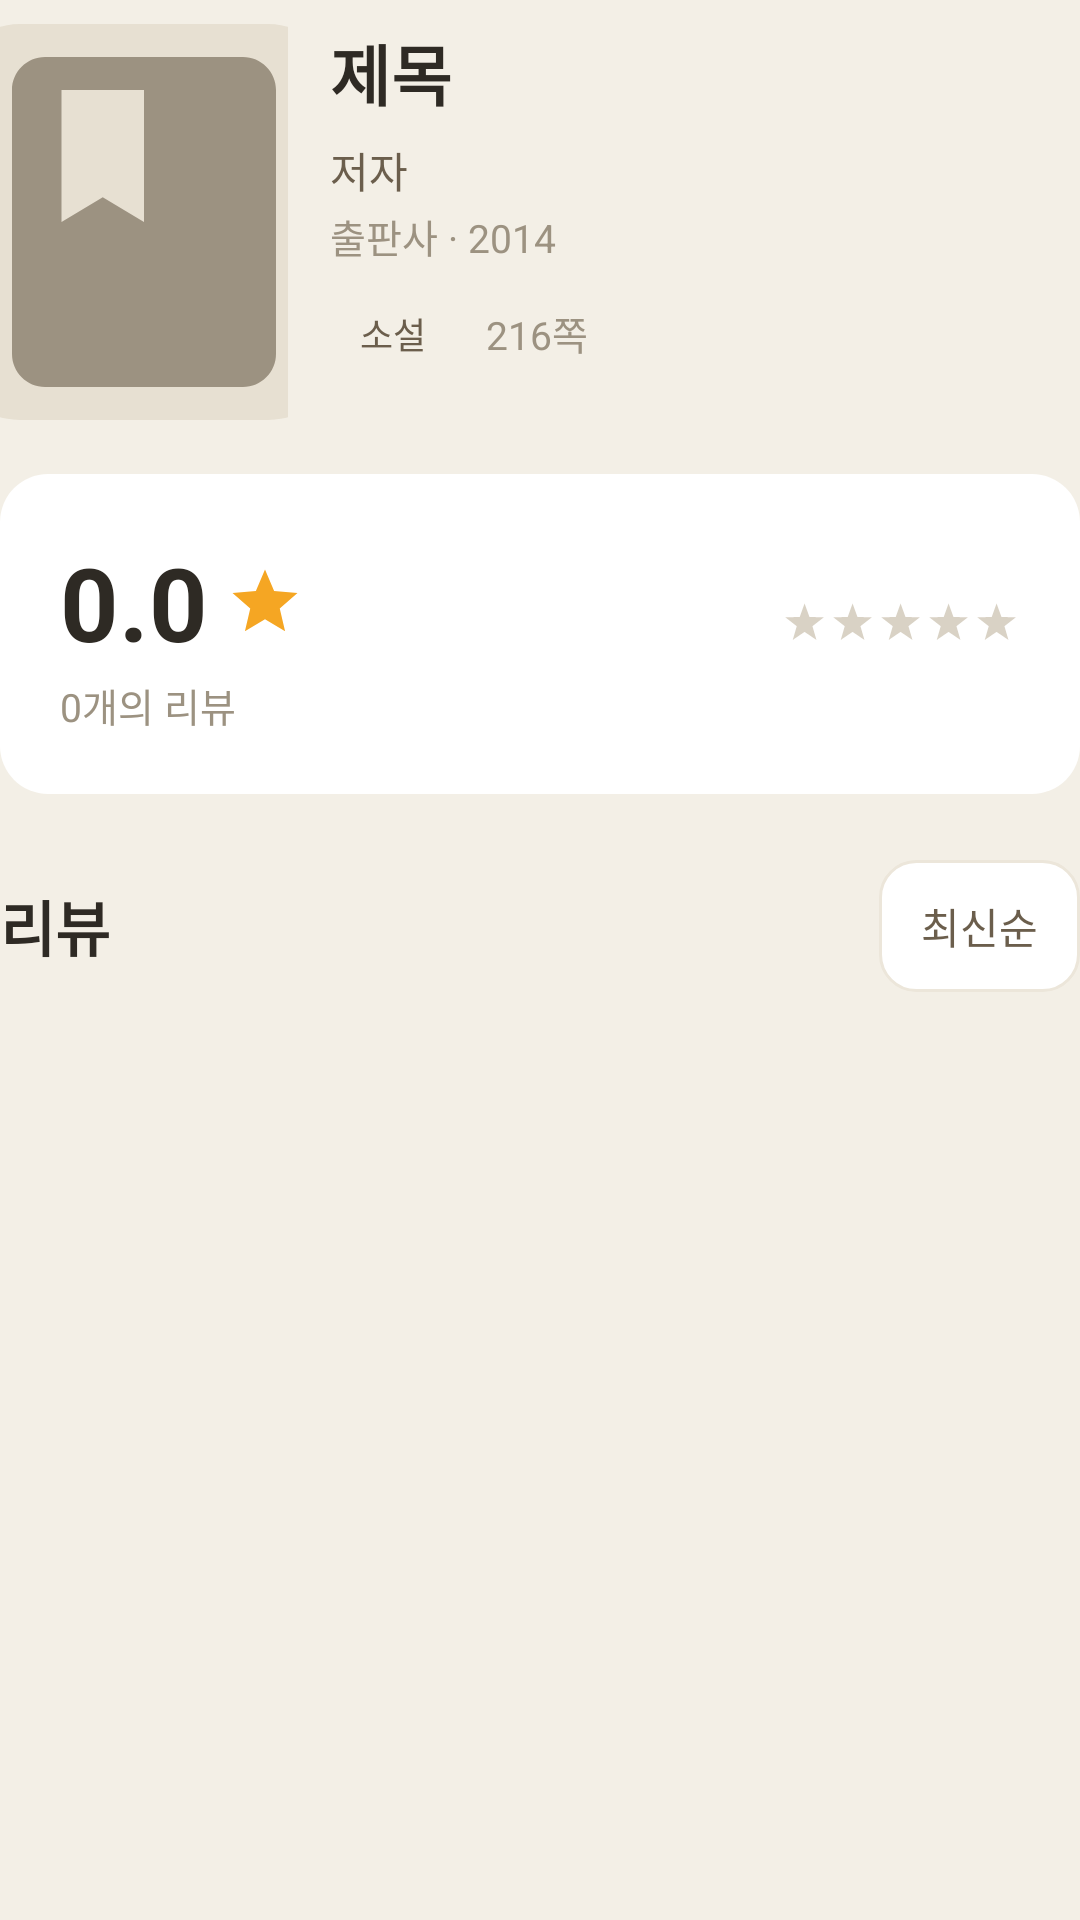

Point at icon controls on the screen. Image size 1080px×1920px, points as [x,y].
star amber: [265,600]
